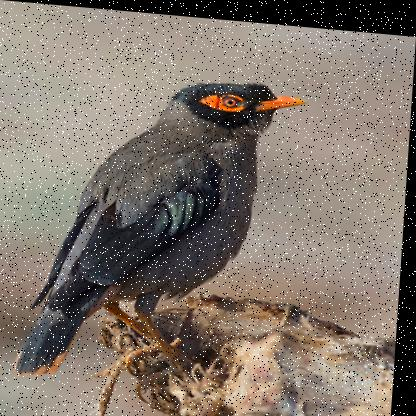Burung: (13, 60, 312, 397)
